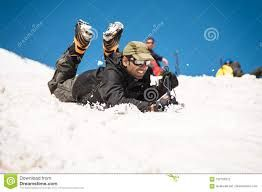fall: (50, 14, 182, 118)
